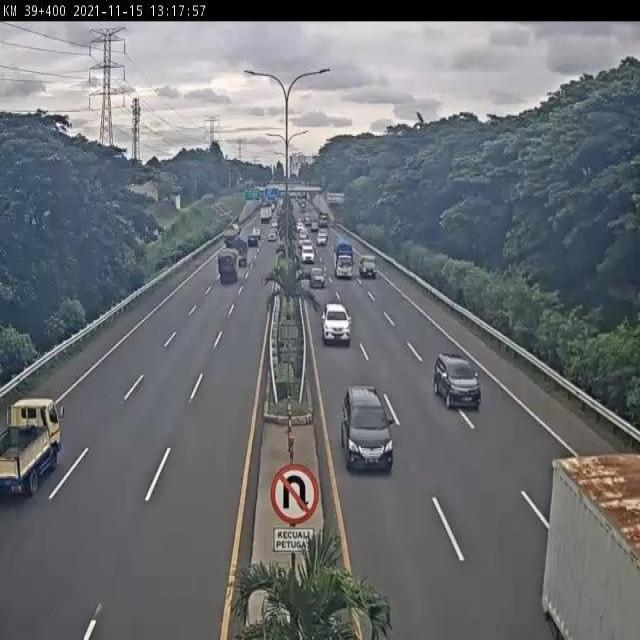Car: (340, 384, 394, 472), (434, 353, 482, 408), (320, 302, 352, 346), (359, 255, 377, 279), (309, 266, 326, 289), (300, 243, 314, 264), (268, 228, 276, 241)
Truck: (540, 450, 640, 640), (0, 399, 62, 499), (332, 241, 354, 278), (218, 249, 240, 283)
